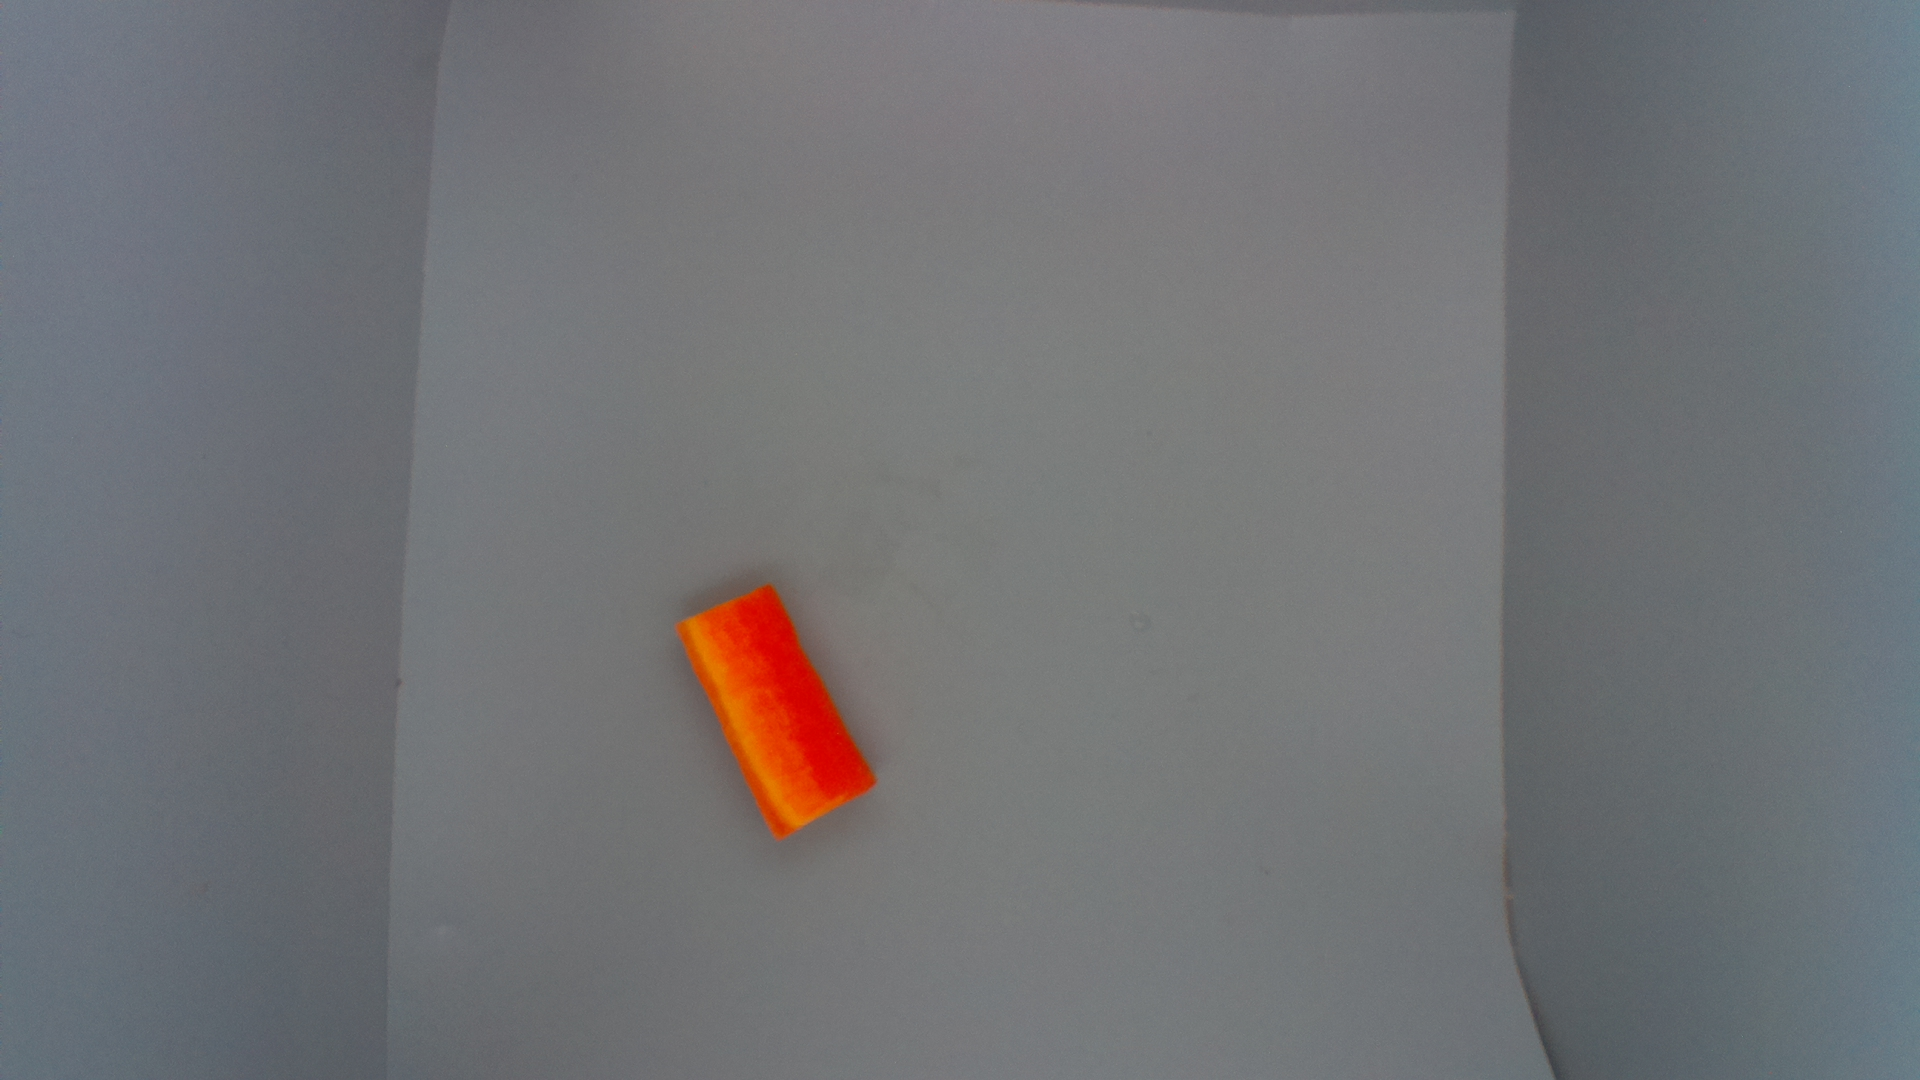carrot: (678, 580, 880, 848)
